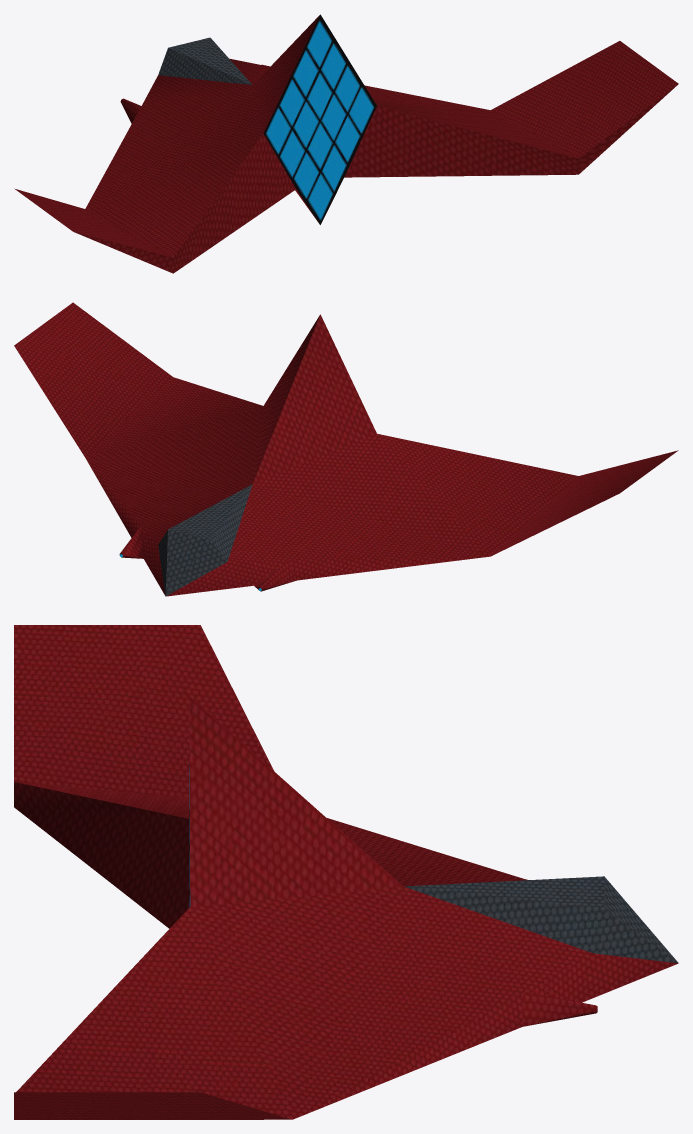
Rendered from spaceship1.fbx.
The picture shows the model from 3 angles, top to bottom: view 1: azimuth 30°, elevation 25°; view 2: azimuth 150°, elevation 25°; view 3: azimuth 270°, elevation 25°; orthographic projection. The views are drawn at different scales.
Parts seen in each view (by area): view 1: polySurface4; view 2: polySurface4; view 3: polySurface4.
Boxes of the visible parts, left/top/right/bottom form: polySurface4: left=14, top=14, right=678, bottom=273; polySurface4: left=14, top=302, right=678, bottom=596; polySurface4: left=14, top=625, right=678, bottom=1119.
Size of the model in its own units: 30 by 9.99 by 18.05.
